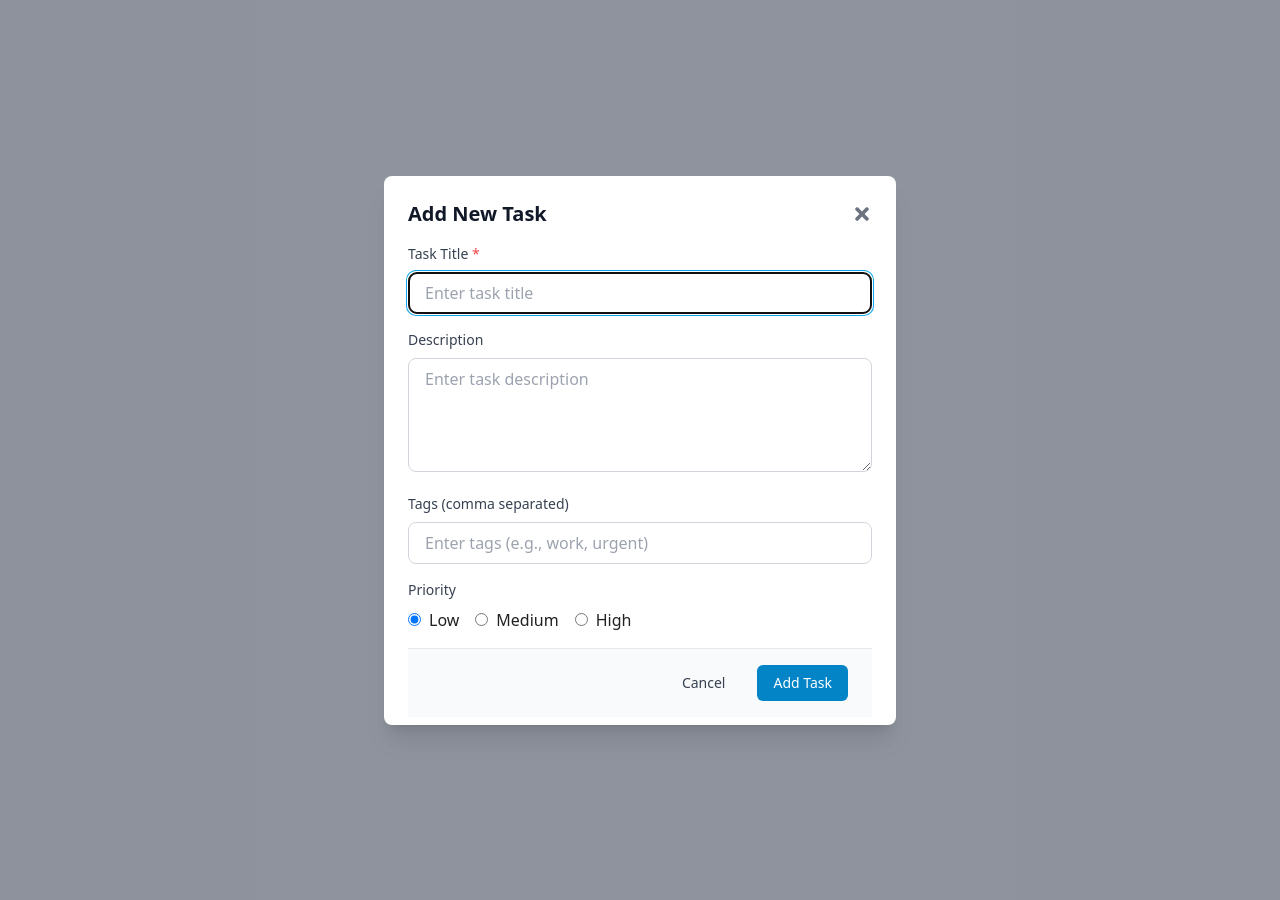
AddTaskModal › should handle tag input correctly
Type "work," into the field with test id "tags-input" at coordinates (640, 542), box x1=408 y1=522 x2=872 y2=564
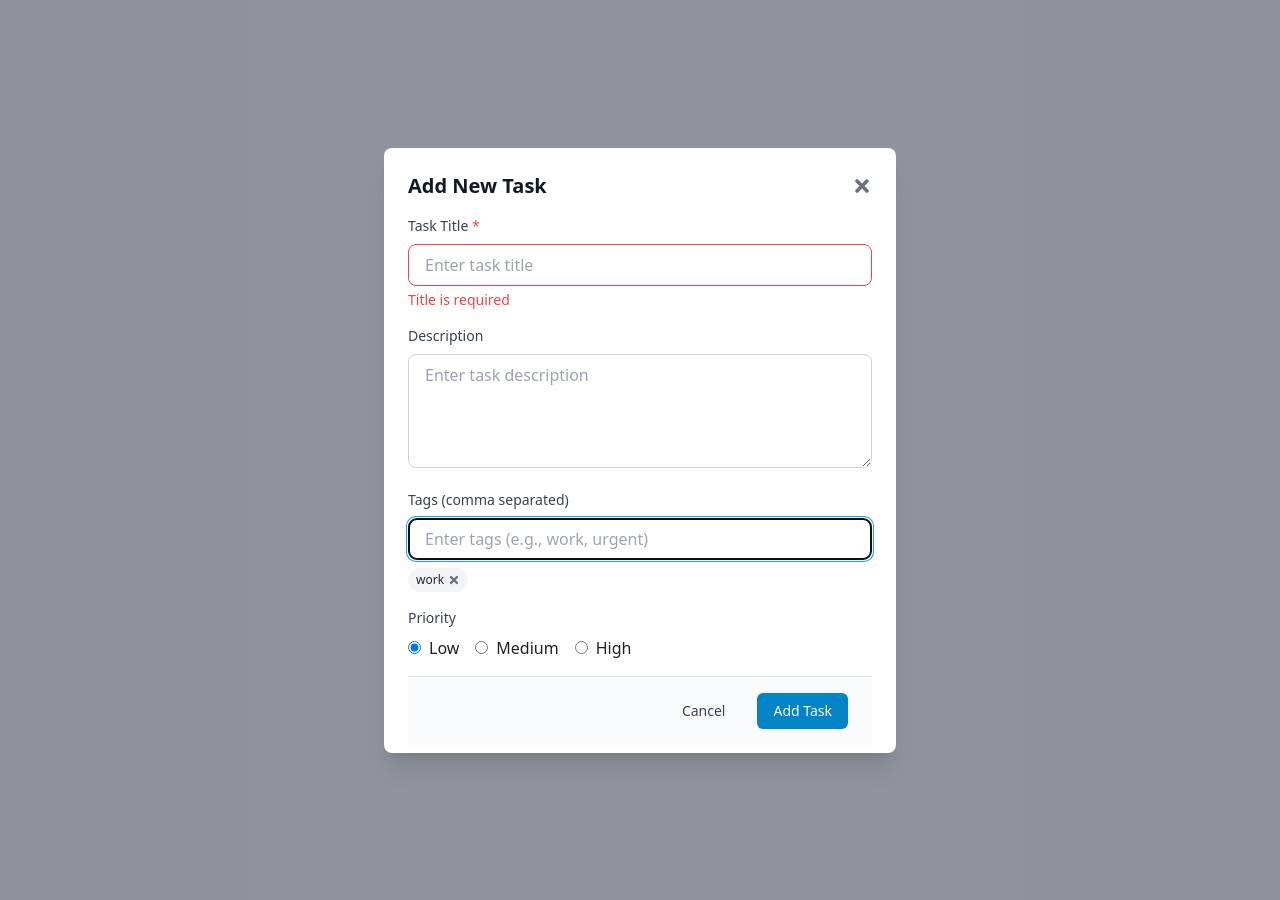
Now the element with test id "tag-work" is shown, box x1=408 y1=568 x2=468 y2=592
